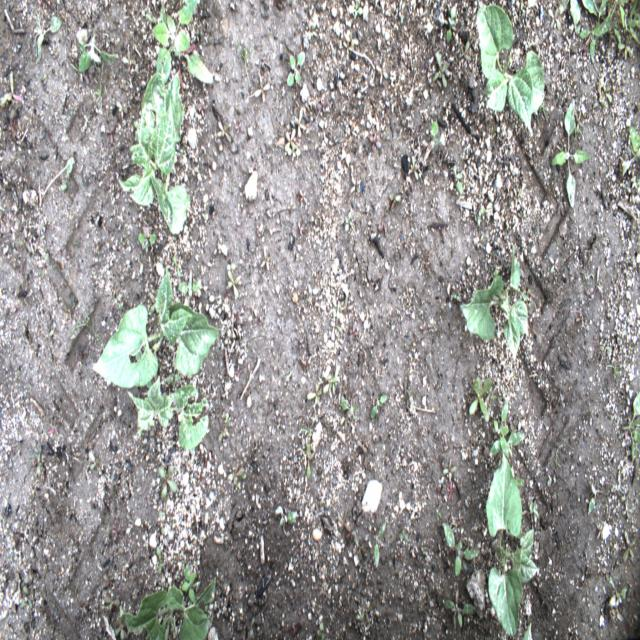crop: (90, 267, 222, 388), (116, 72, 189, 236), (486, 447, 540, 637), (476, 4, 544, 135), (458, 244, 530, 358), (126, 374, 209, 449), (122, 578, 216, 638)
weed: (150, 0, 213, 87), (551, 100, 593, 208), (486, 402, 526, 458), (579, 1, 612, 67), (441, 523, 481, 577), (33, 7, 63, 65), (78, 31, 118, 73), (613, 0, 640, 60), (445, 589, 476, 632), (622, 390, 640, 463), (469, 378, 492, 422), (622, 126, 640, 180), (0, 71, 24, 106), (286, 50, 305, 86), (158, 465, 177, 500), (570, 0, 596, 23), (374, 519, 386, 568), (433, 52, 450, 86), (608, 576, 626, 608), (182, 565, 196, 602), (370, 392, 388, 419), (622, 530, 636, 562), (178, 278, 201, 297), (446, 3, 457, 42), (226, 270, 242, 296), (136, 234, 157, 247), (115, 616, 126, 639), (285, 128, 295, 152), (156, 546, 162, 573)
